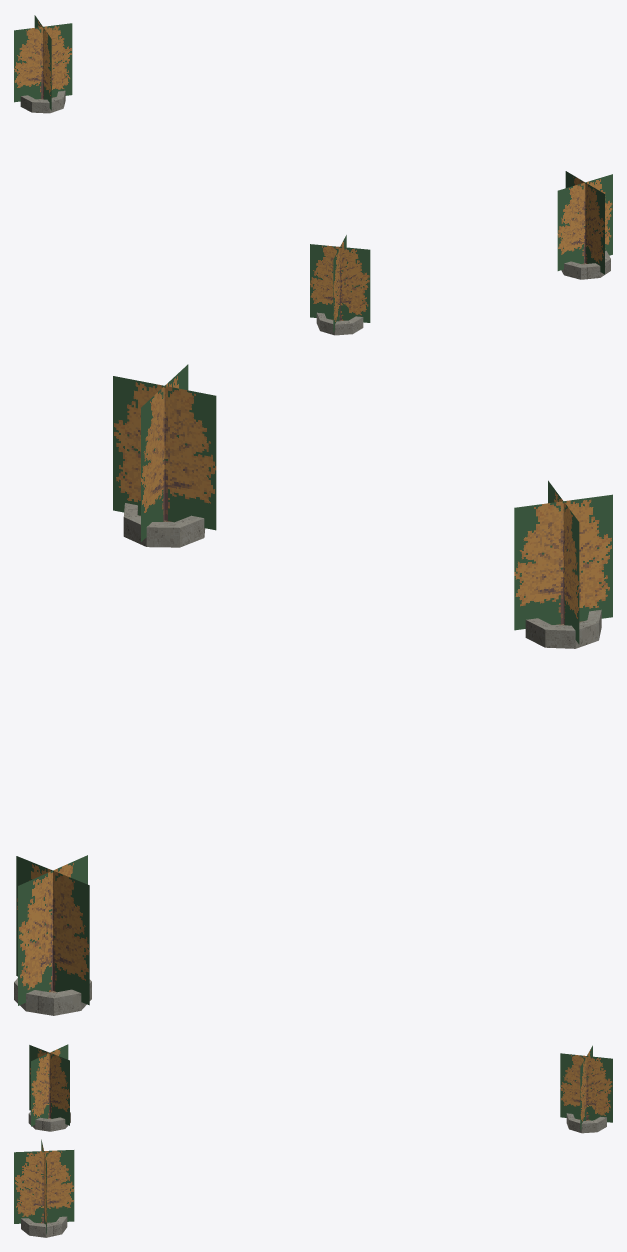
The model's file is procgen-procpain-tree-park-large-x0z1.obj.
The picture shows the model from 3 angles, top to bottom: view 1: azimuth 30°, elevation 25°; view 2: azimuth 150°, elevation 25°; view 3: azimuth 270°, elevation 25°; orthographic projection. The views are drawn at different scales.
Size of the model in its own units: 27.26 by 7.71 by 54.28.
